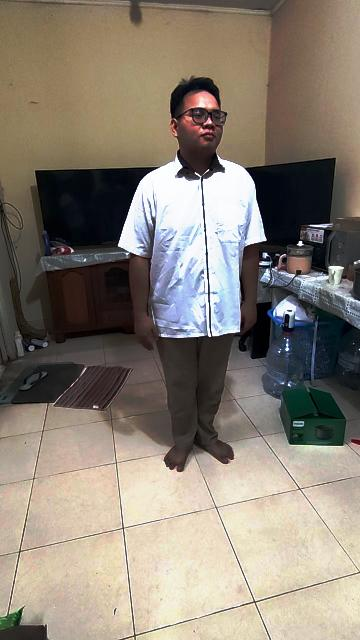berdiri: (120, 76, 268, 478)
